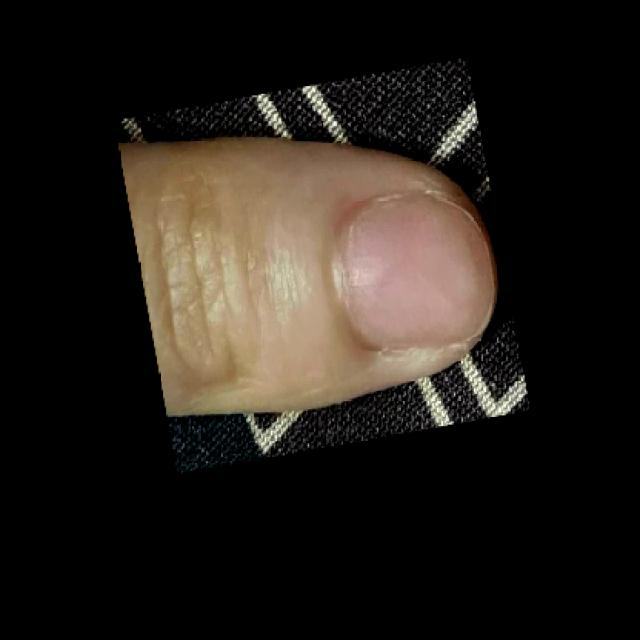Nail: (338, 193, 491, 354)
